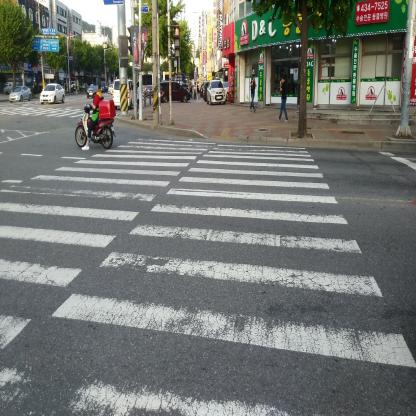Red: (173, 25, 180, 57)
